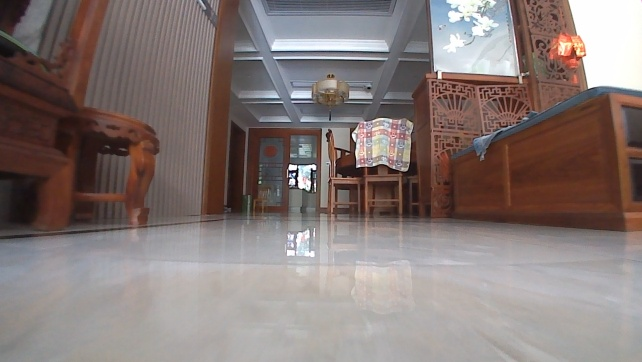dining_table: (320, 113, 421, 218)
